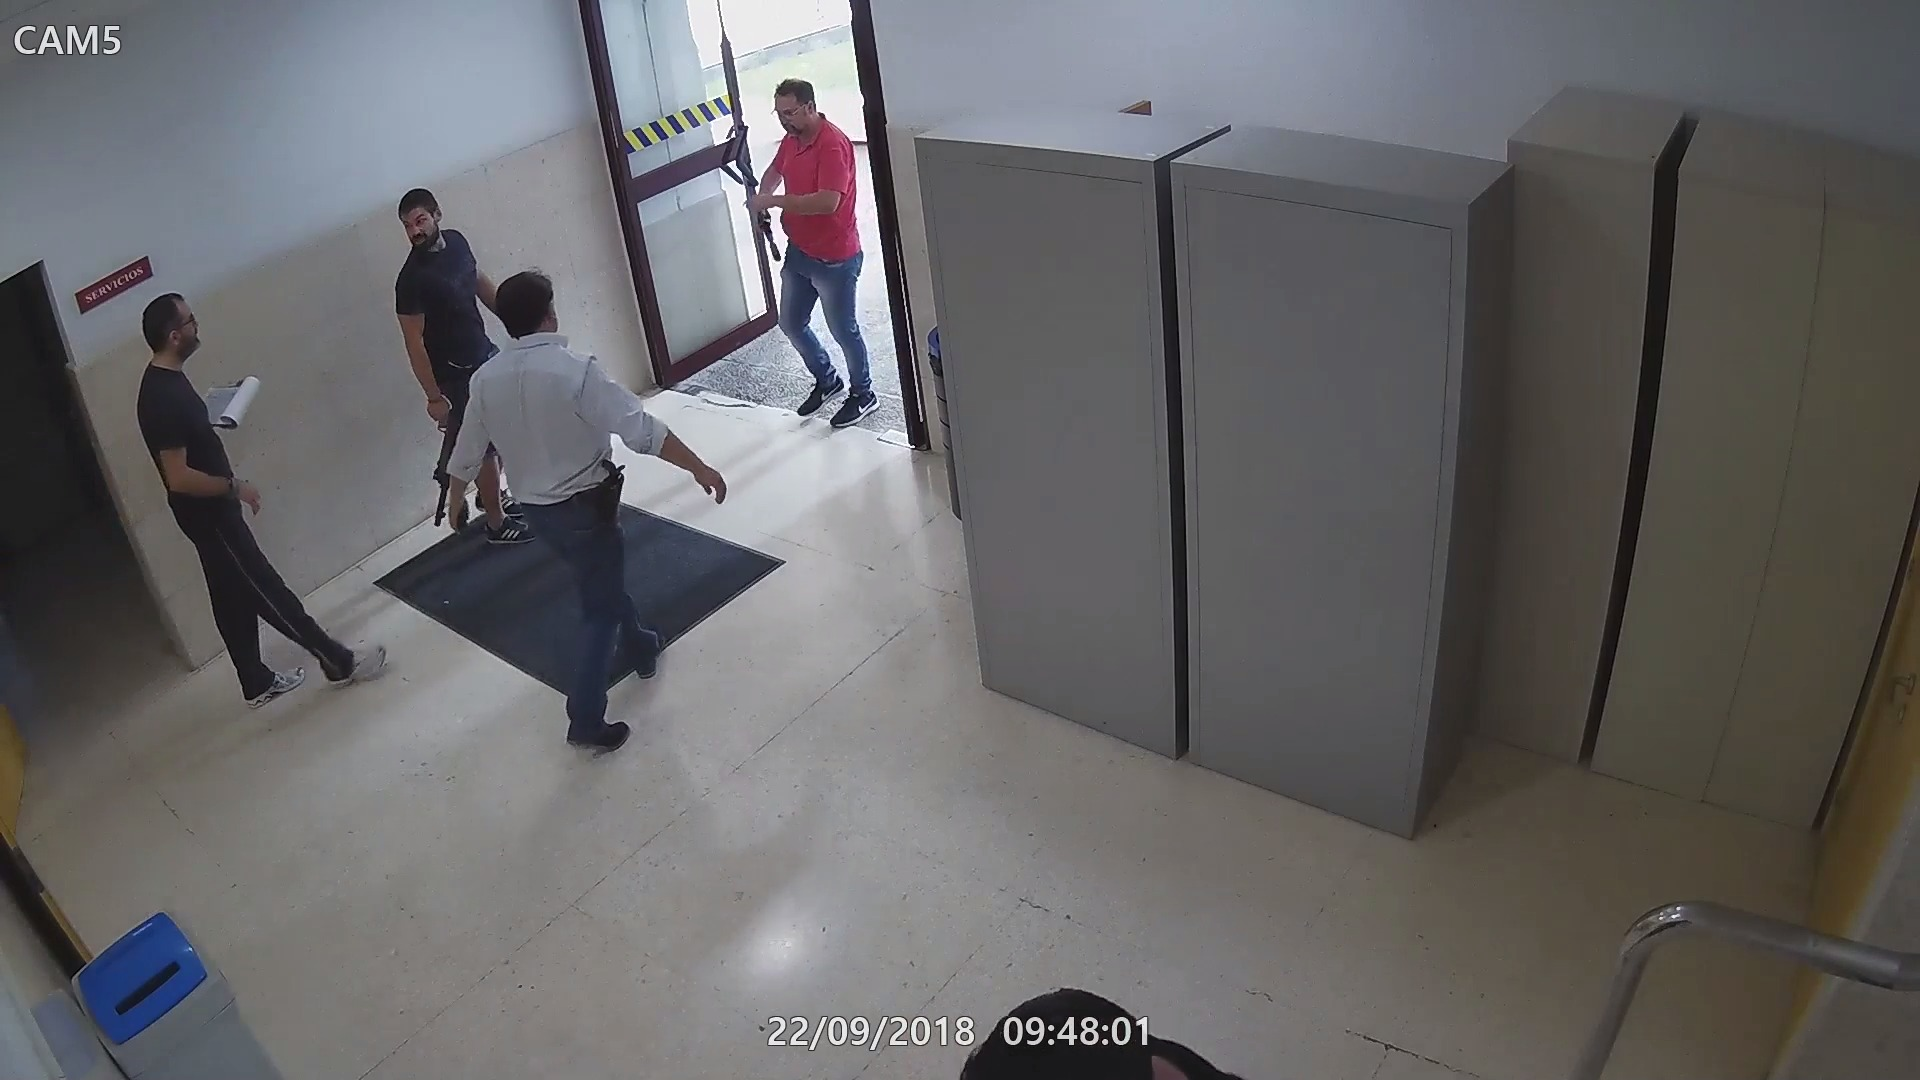Handgun: (444, 487, 481, 531)
Short_rifle: (427, 397, 462, 534), (745, 183, 786, 260)
